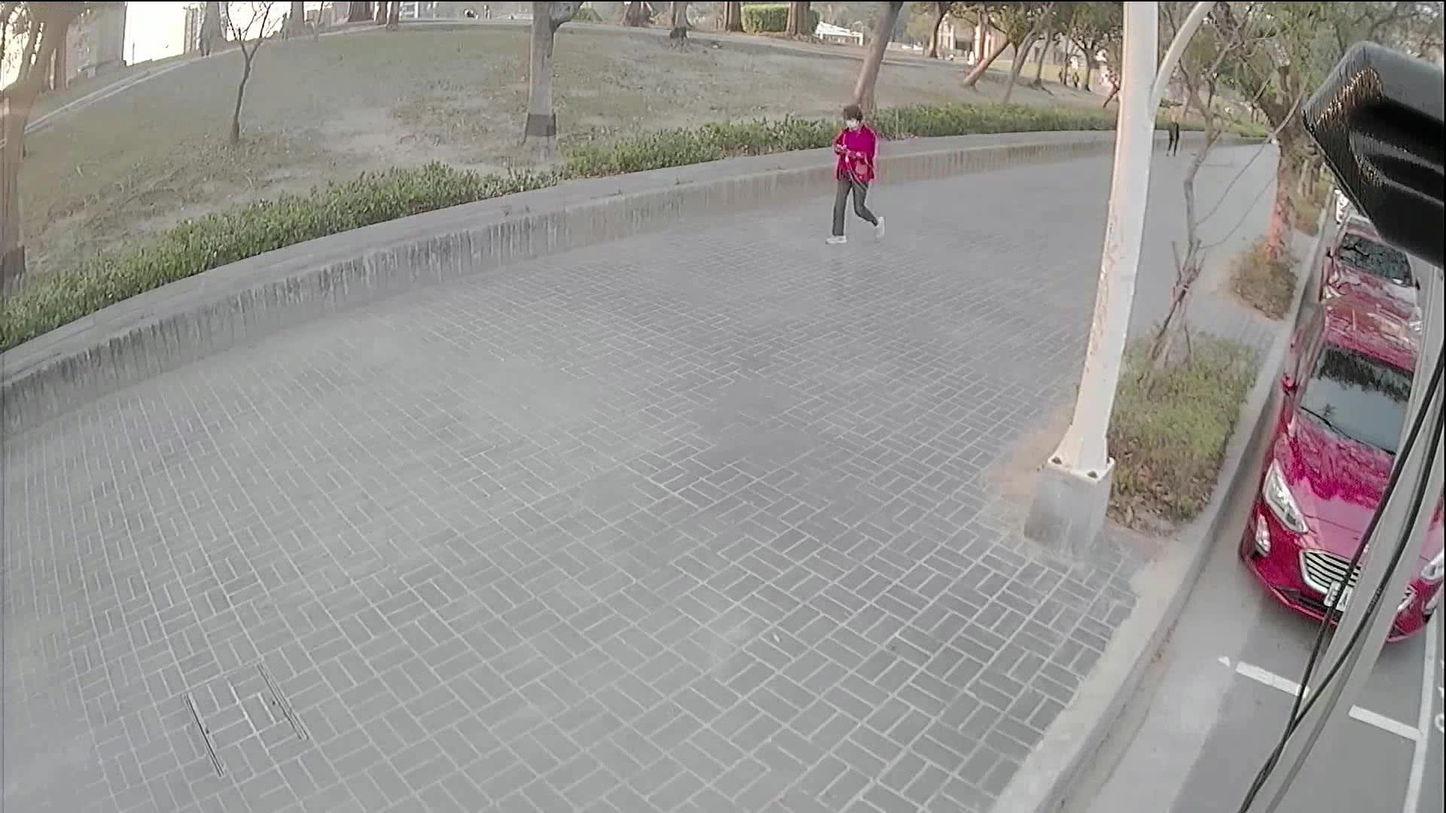person: (831, 108, 880, 239), (1166, 117, 1179, 156)
